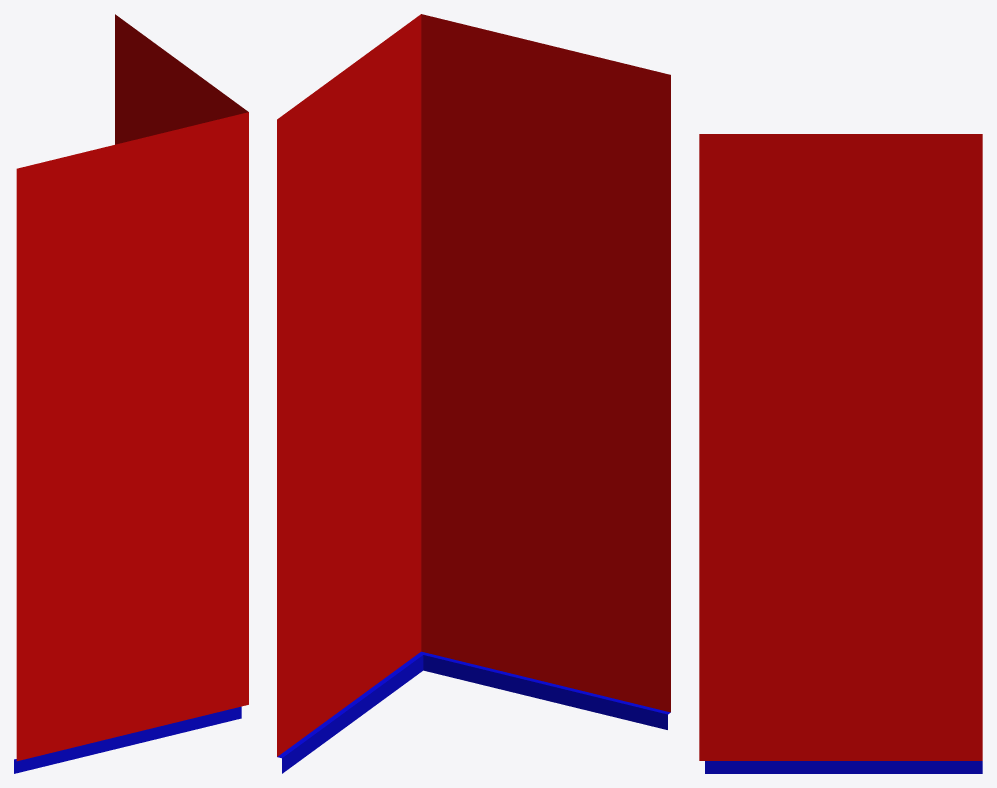
File: InsideCornerWall.fbx
3 renders of one model, left to right at view 1: azimuth 30°, elevation 25°; view 2: azimuth 150°, elevation 25°; view 3: azimuth 270°, elevation 25°, orthographic. The views are drawn at different scales.
Parts seen in each view (by area): view 1: Inside Corner Wall; view 2: Inside Corner Wall; view 3: Inside Corner Wall.
Boxes of the visible parts, x1,y1,x2,y2 form: Inside Corner Wall: (14,14,248,773); Inside Corner Wall: (277,14,670,773); Inside Corner Wall: (699,134,982,773).
Size of the model in its own units: 1 by 2.5 by 1.
